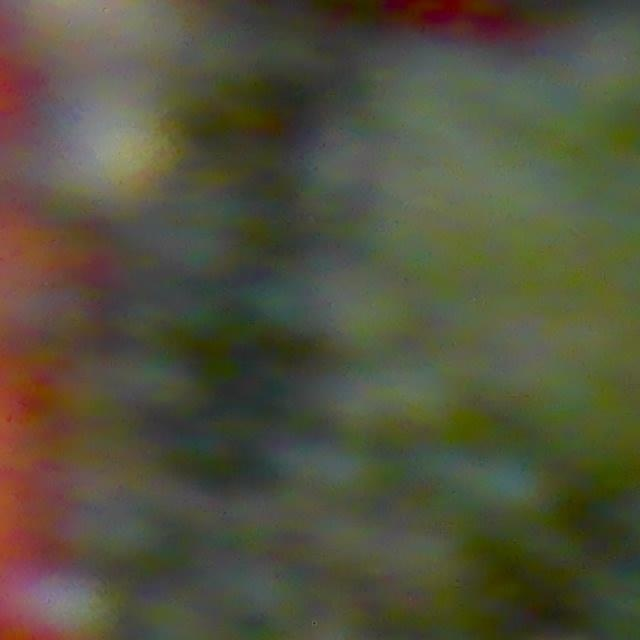SeaGrape: (471, 448, 548, 524)
